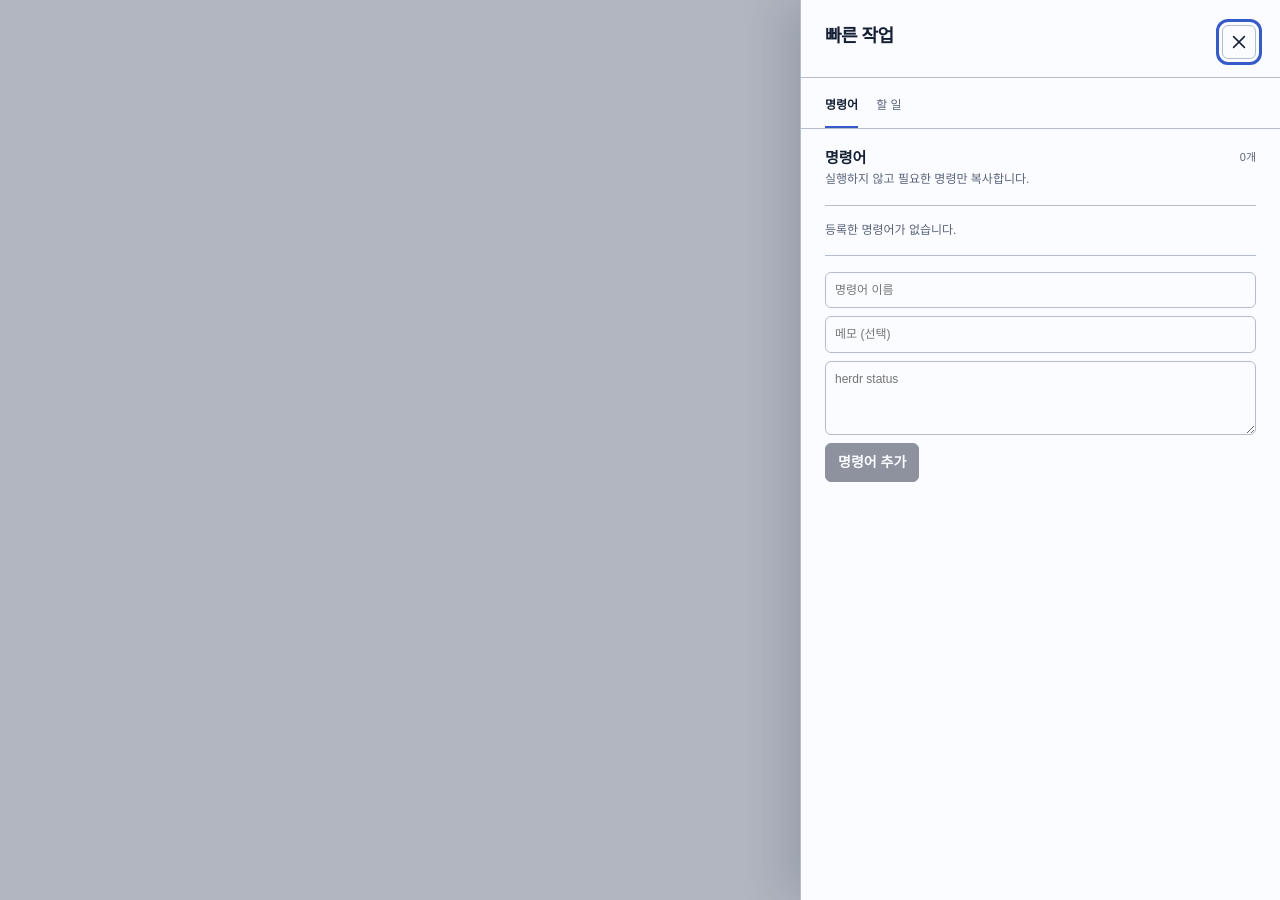
Test: GlobalToolboxDrawer › keeps real all/common project keys distinct from the common filter
Click the tab "할 일". click: [889, 112]
box: [876, 96, 902, 128]
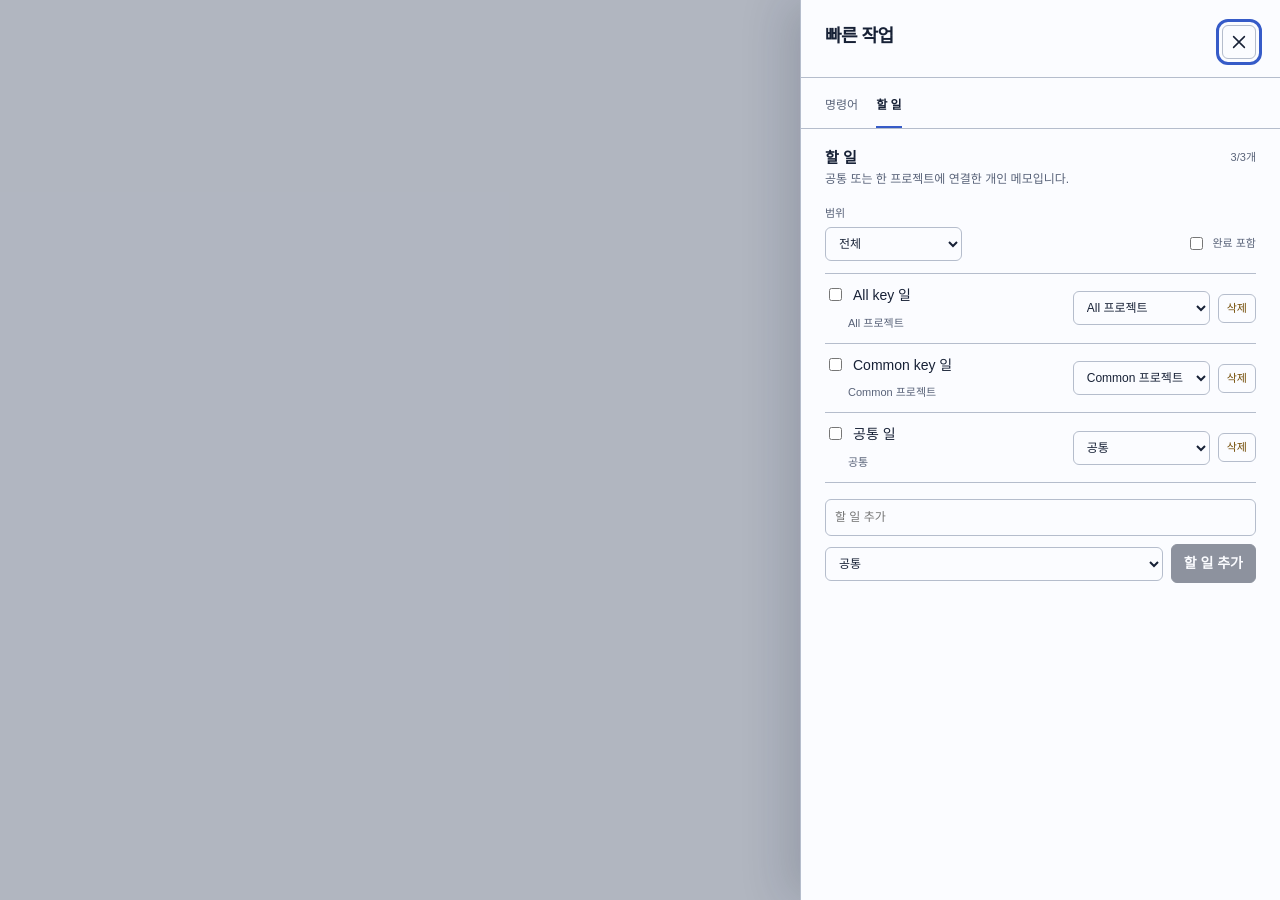
Select "공통" in the dropdown named "할 일 범위". click: [894, 244]
box: [825, 227, 962, 261]
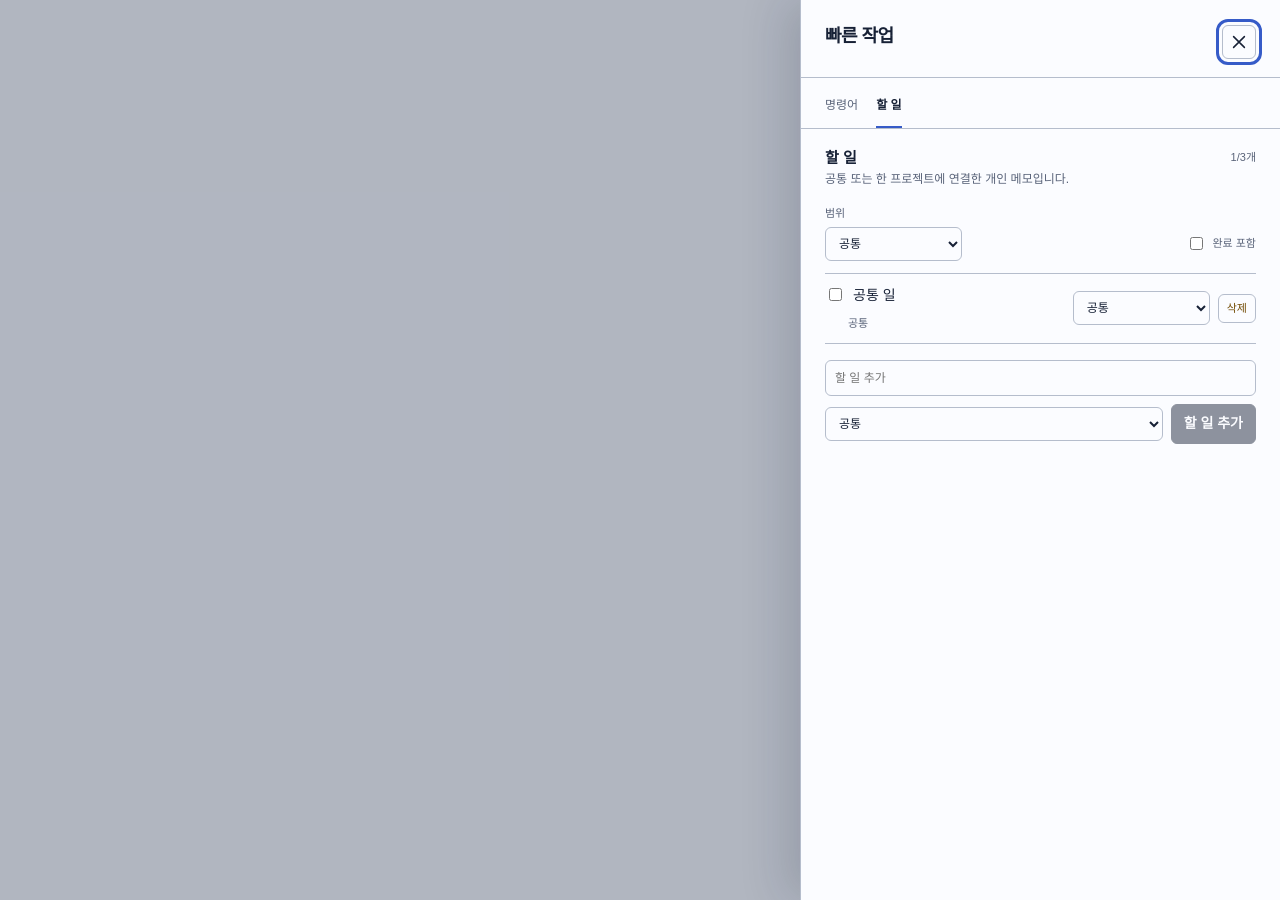
Expected: the text "공통 일" is shown, [853, 285, 896, 307]
Expected: the text "All key 일" is gone
Select "All 프로젝트" in the dropdown named "할 일 범위". click: [894, 244]
box: [825, 227, 962, 261]
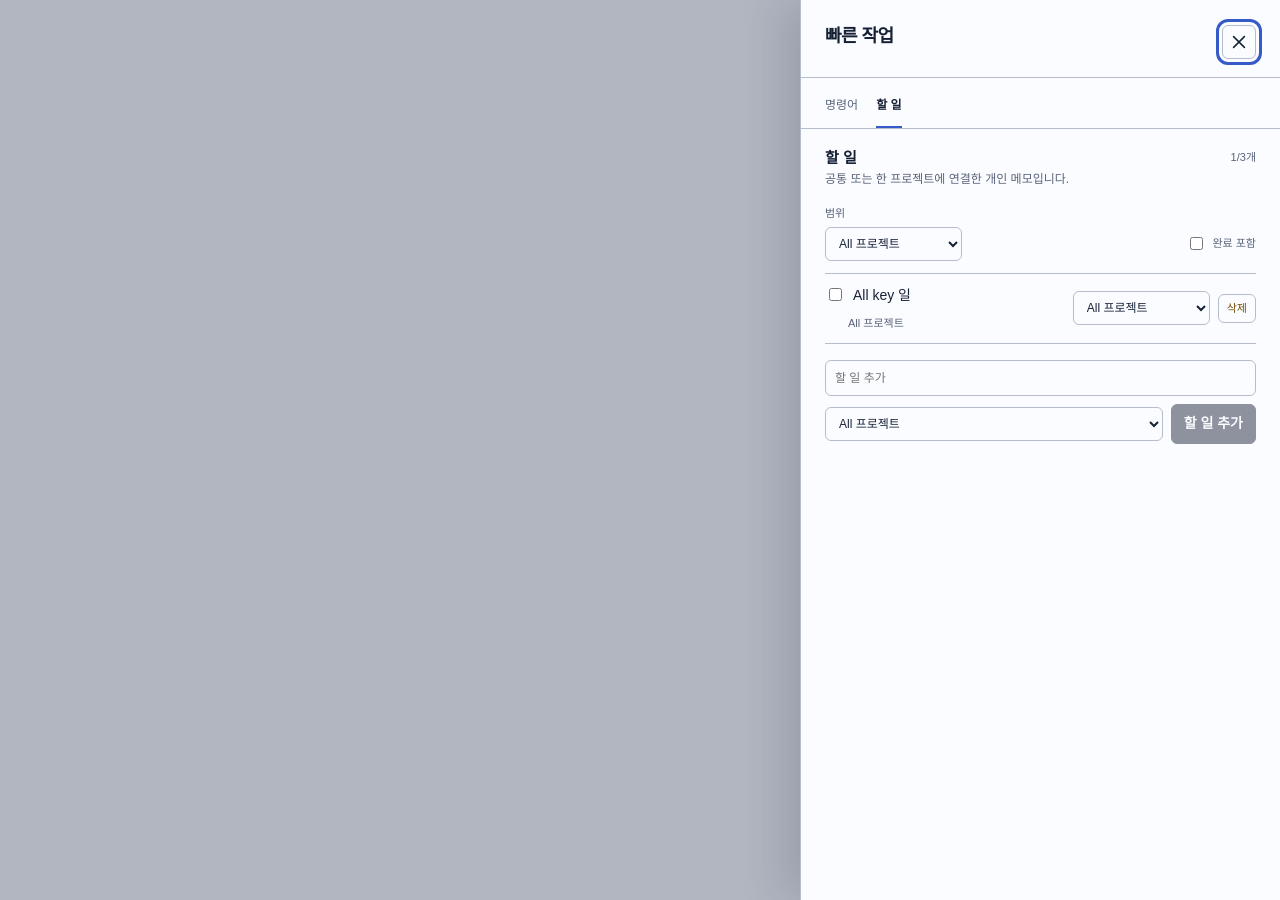
Expected: the text "All key 일" is shown, [853, 285, 911, 307]
Expected: the text "공통 일" is gone
Select "Common 프로젝트" in the dropdown named "할 일 범위". click: [894, 244]
box: [825, 227, 962, 261]
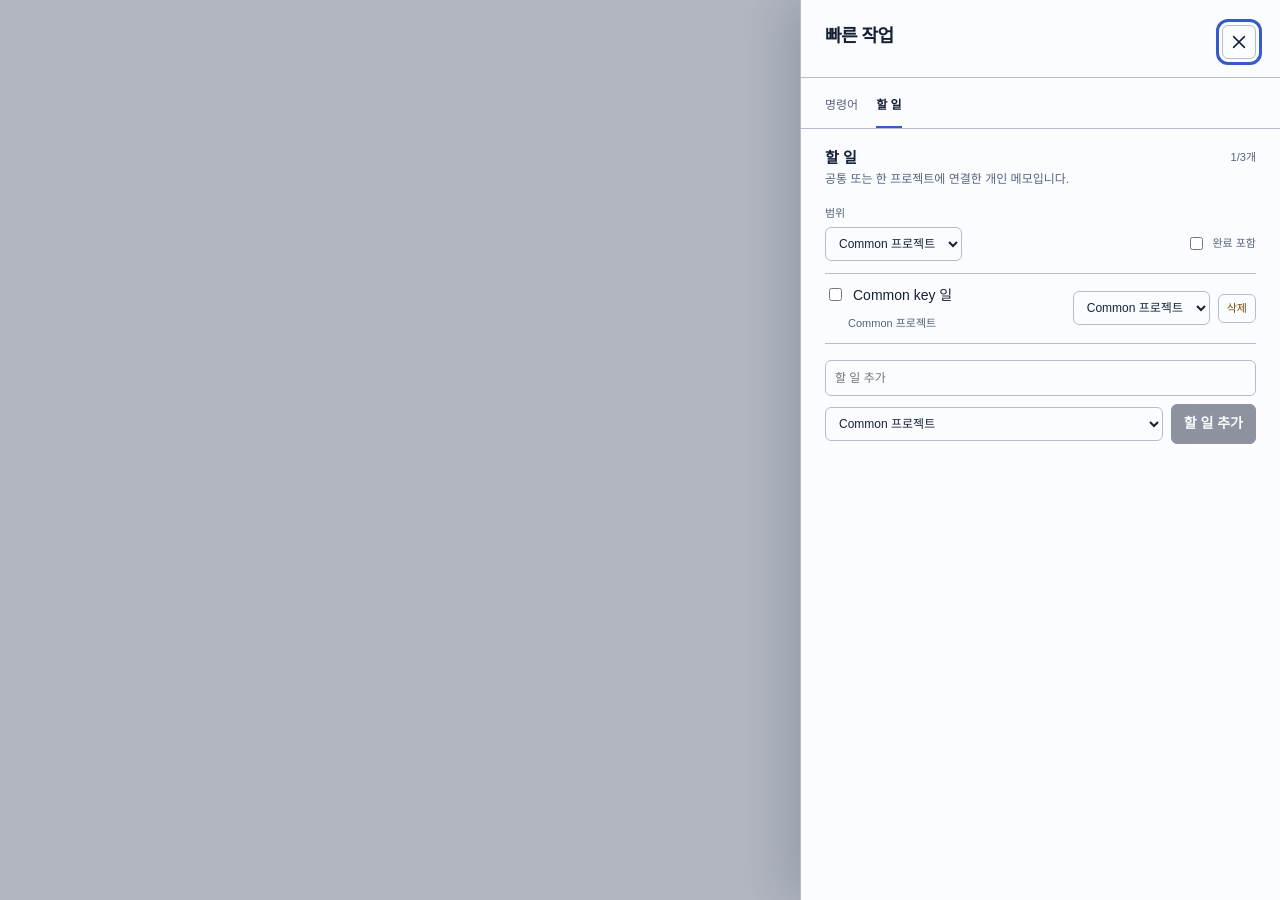
Expected: the text "Common key 일" is shown, [853, 285, 952, 307]
